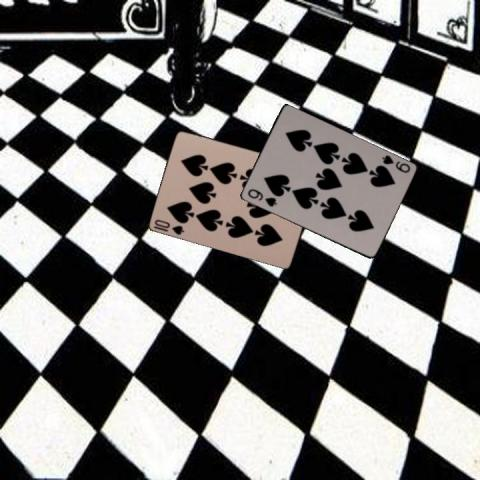10s: (152, 216, 186, 236)
9s: (244, 186, 278, 209), (379, 152, 411, 175)
